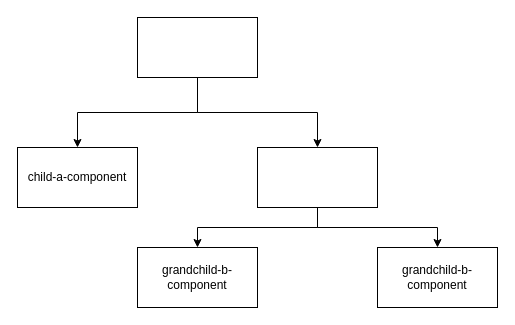
Some shapes in this 515 by 325 pixel diagram are drawn without their labels. The shapes that lost their labels are listed below. From the top down, each one's box as (x1, y1, x2, y2) in pixels, then its label:
(136, 16, 258, 78): root-component
(256, 146, 378, 208): child-b-component
